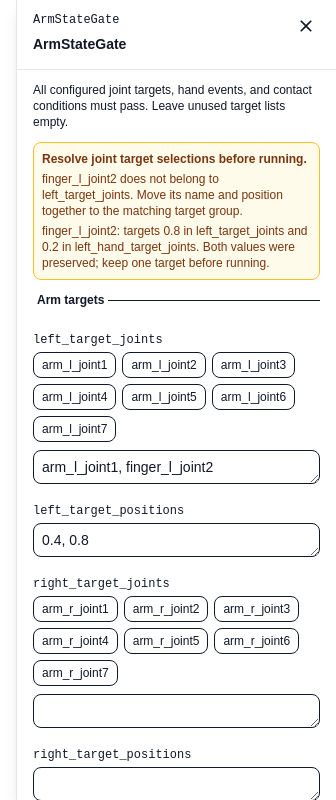
a conflicting legacy hand target keeps both values visible and requires manual resolution
Check: the message shows "targets 0.8 in left_target_joints and 0.2 in left_hand_target_joints", box x1=42 y1=224 x2=308 y2=270
Check: the text box below "left_target_positions" holds "0.4, 0.8", box x1=33 y1=523 x2=320 y2=557
What coordinates should you click on to do the following:
click the button "arm_l_joint3"
I would click on:
 (254, 365)
Its box is x1=212 y1=352 x2=295 y2=378.
(page scrolled)
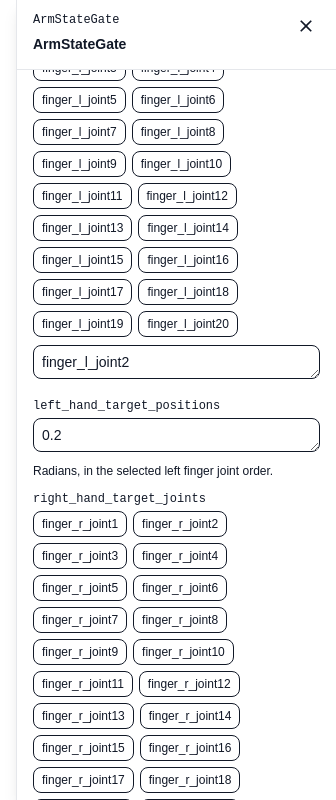
Check: the text box below "left_hand_target_positions" holds "0.2", box x1=33 y1=418 x2=320 y2=452
